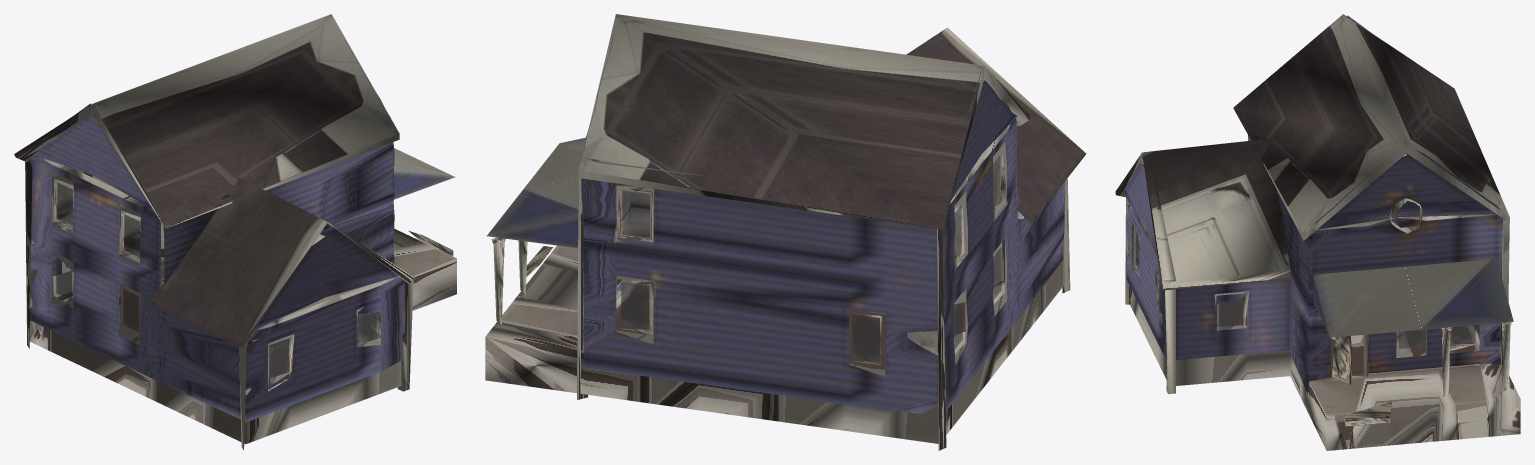
Rendered from suburban-blue-y0.far.glb.
The picture shows the model from 3 angles, left to right: view 1: azimuth 30°, elevation 25°; view 2: azimuth 150°, elevation 25°; view 3: azimuth 270°, elevation 25°; orthographic projection. The views are drawn at different scales.
Parts seen in each view (by area): view 1: Plane.012, Plane.035, Plane.017, Cube.023, Cube.044; view 2: Plane.012, Plane.035, Plane.017, Cube.023, Cube.044; view 3: Plane.012, Plane.035, Plane.017, Cube.044, Cube.023.
Part boxes in pixels (x1,y1,x2,y2): Plane.012: (14, 14, 455, 450); Plane.035: (30, 41, 405, 422); Plane.017: (29, 155, 456, 444); Cube.023: (56, 182, 376, 382); Cube.044: (50, 181, 453, 391); Plane.012: (487, 14, 1086, 450); Plane.035: (581, 31, 1064, 413); Plane.017: (485, 123, 1062, 443); Cube.023: (621, 156, 1001, 362); Cube.044: (491, 155, 1007, 364); Plane.012: (1115, 14, 1513, 394); Plane.035: (1124, 15, 1502, 393); Plane.017: (1128, 154, 1520, 450); Cube.044: (1131, 198, 1511, 426); Cube.023: (1135, 231, 1475, 348).
Size of the model in its own units: 11.3 by 7.76 by 10.52.
Materials: 6 (5 with a texture image).
